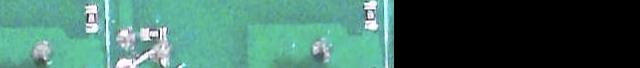chip-resistor: (364, 1, 377, 29), (85, 4, 97, 32), (140, 27, 166, 39)
